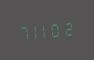one: (29, 21, 39, 40), (40, 20, 50, 39)
seven: (18, 22, 28, 41)
two: (62, 18, 72, 37)
zero: (51, 19, 61, 38)
